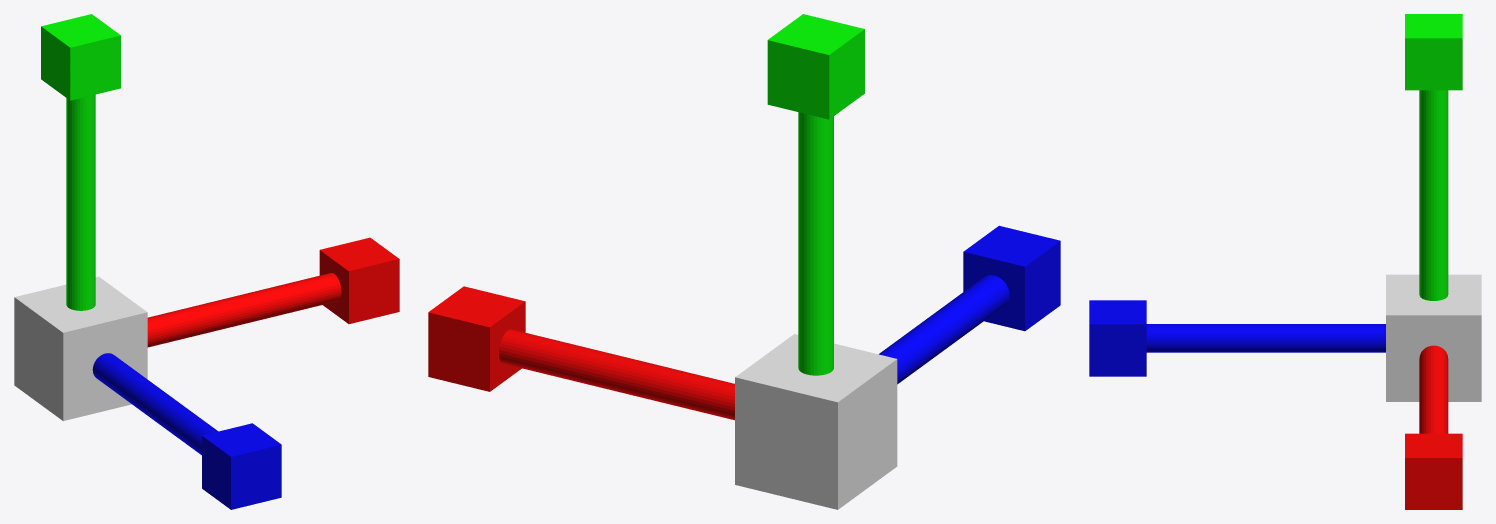
The model's file is gizmo_scale.glb.
3 views of the same model, side by side, from view 1: azimuth 30°, elevation 25°; view 2: azimuth 150°, elevation 25°; view 3: azimuth 270°, elevation 25° (orthographic). The views are drawn at different scales.
Parts seen in each view (by area): view 1: all, y scale, x scale, z scale; view 2: all, y scale, x scale, z scale; view 3: z scale, y scale, all, x scale.
Boxes of the visible parts, x1,y1,x2,y2 form: all: (14,276,147,420); y scale: (41,14,120,310); x scale: (147,237,399,347); z scale: (92,353,281,509); all: (735,334,897,509); y scale: (767,14,864,375); x scale: (428,286,734,420); z scale: (879,225,1060,384); z scale: (1089,300,1385,376); y scale: (1405,14,1462,300); all: (1386,274,1481,401); x scale: (1405,345,1462,509).
Size of the model in its own units: 0.82 by 0.82 by 0.82.
